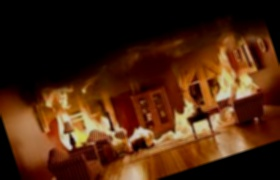fire: (163, 100, 200, 143), (46, 86, 79, 127), (222, 69, 258, 105), (83, 114, 114, 140)
smoke: (64, 0, 262, 102)
